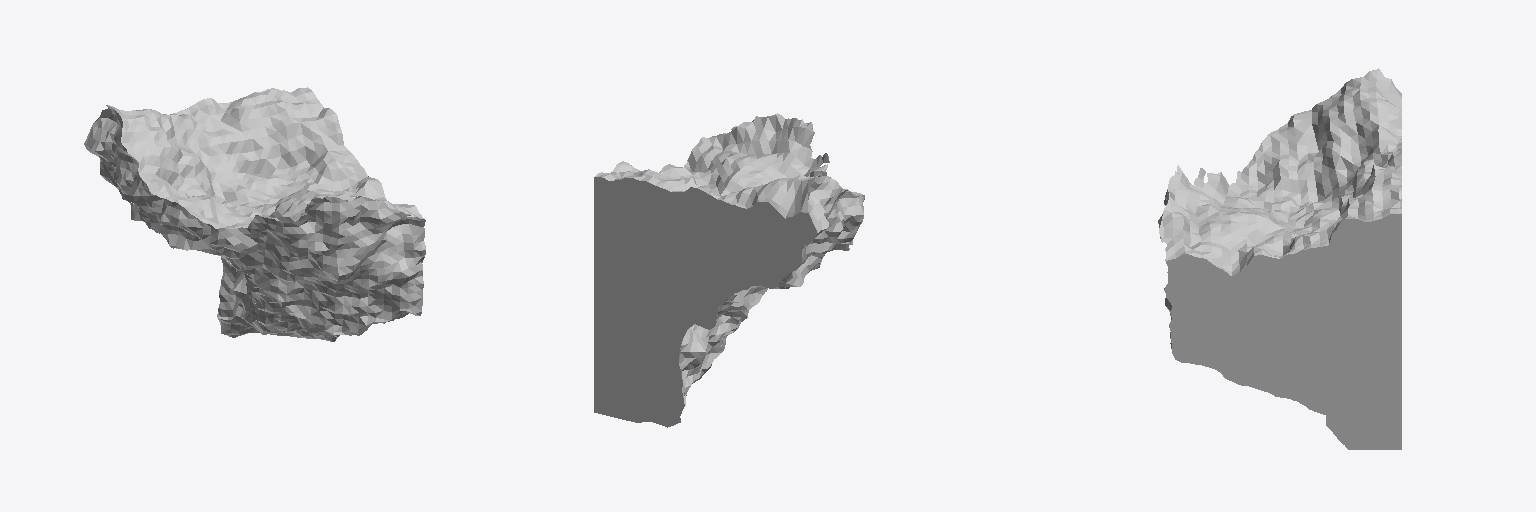
The model's file is Cube_shard.011.obj.
3 views of the same model, side by side, from view 1: azimuth 30°, elevation 25°; view 2: azimuth 150°, elevation 25°; view 3: azimuth 270°, elevation 25° (orthographic).
Parts seen in each view (by area): view 1: Cube_shard.011_Cube_shard.151; view 2: Cube_shard.011_Cube_shard.151; view 3: Cube_shard.011_Cube_shard.151.
Boxes of the visible parts, x1,y1,x2,y2 form: Cube_shard.011_Cube_shard.151: [84, 87, 425, 341]; Cube_shard.011_Cube_shard.151: [594, 113, 864, 427]; Cube_shard.011_Cube_shard.151: [1158, 68, 1401, 449].
Bounding box in the file's own units: 1.32 × 1.57 × 1.24.